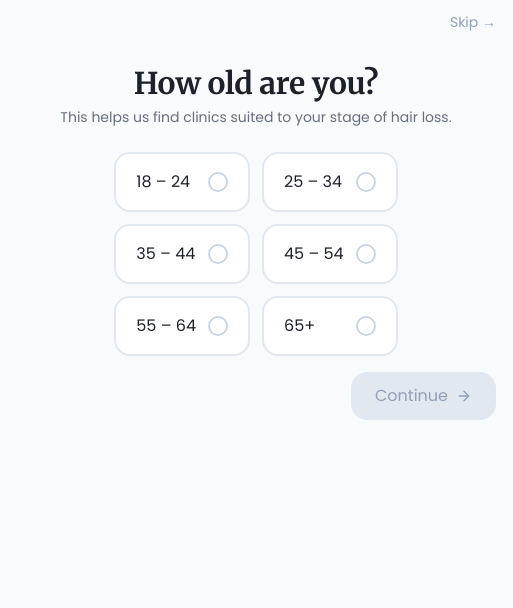
Scenario: GetStarted › advances to the Norwood scale step after selecting gender
The image size is (513, 608).
Click the button "18 – 24": (182, 182) [114,152,250,212]
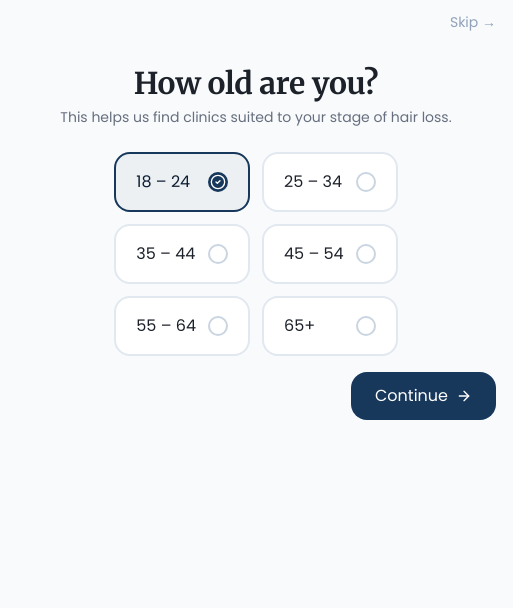
Click the button "Continue": (424, 396) [351,372,496,420]
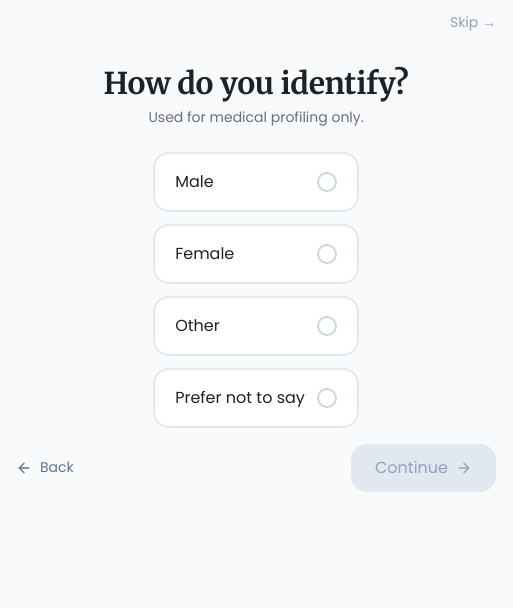
Result: the heading "How do you identify?" is shown at [104,65,408,102]
Click the button "Male": (256, 182) [153,152,359,212]
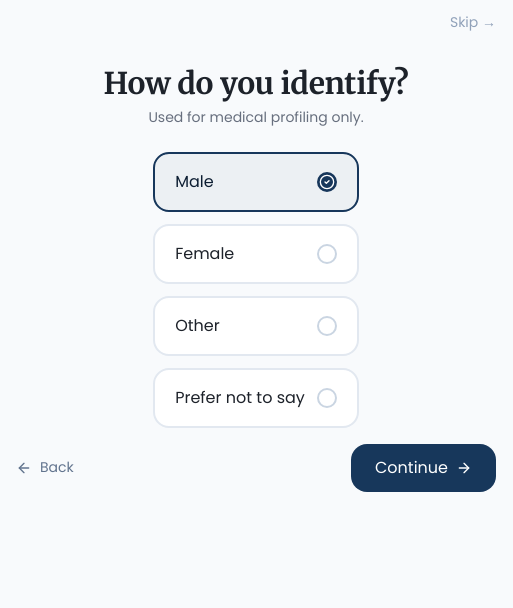
Click the button "Continue": (424, 468) [351,444,496,492]
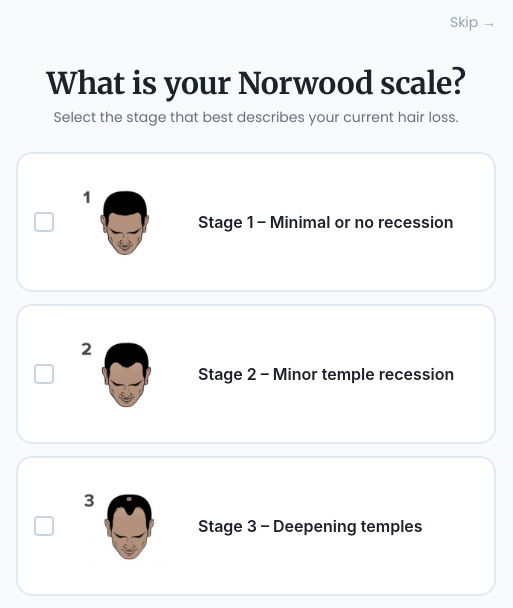
Result: the heading "What is your Norwood scale?" is shown at [46,65,466,102]
